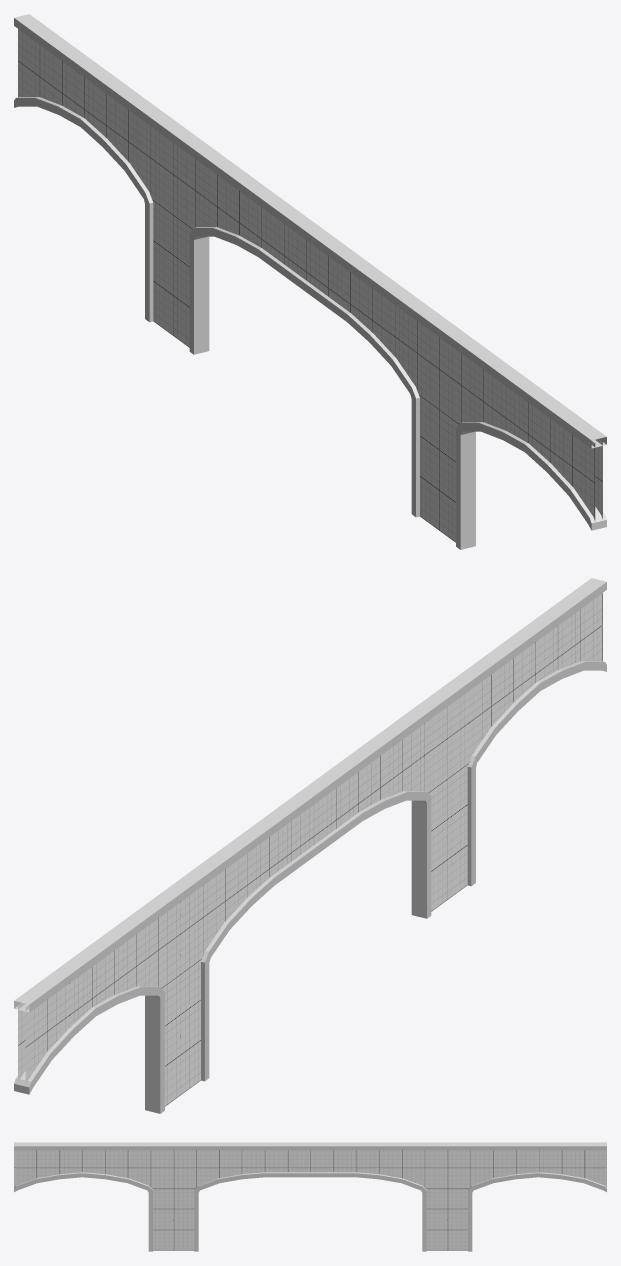
Rendered from Tile_Bridge.fbx.
3 renders of one model, top to bottom at view 1: azimuth 30°, elevation 25°; view 2: azimuth 150°, elevation 25°; view 3: azimuth 270°, elevation 25°, orthographic. The views are drawn at different scales.
Parts seen in each view (by area): view 1: Tile_Bridge; view 2: Tile_Bridge; view 3: Tile_Bridge.
Boxes of the visible parts, x1=… form: Tile_Bridge: x1=14, y1=14, x2=606, y2=549; Tile_Bridge: x1=14, y1=578, x2=606, y2=1113; Tile_Bridge: x1=14, y1=1142, x2=606, y2=1251.
Bounding box in the file's own units: 40 × 510 × 2600.
